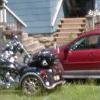stairs: (50, 18, 85, 46)
